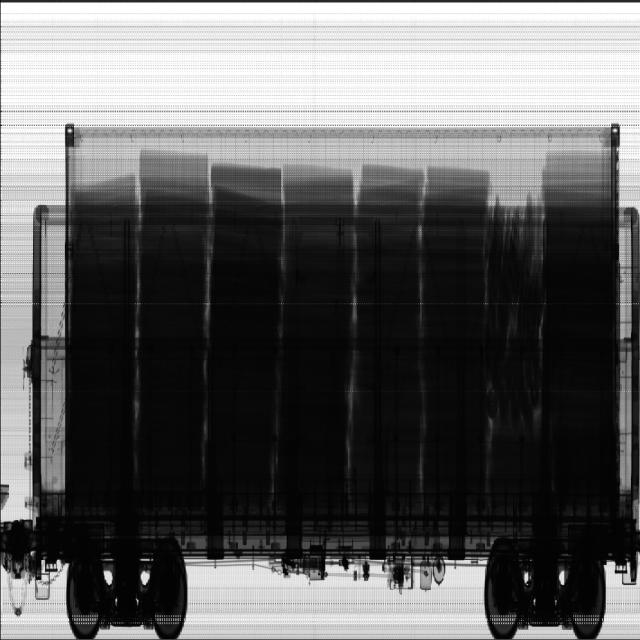fabrics: (71, 149, 610, 495)
